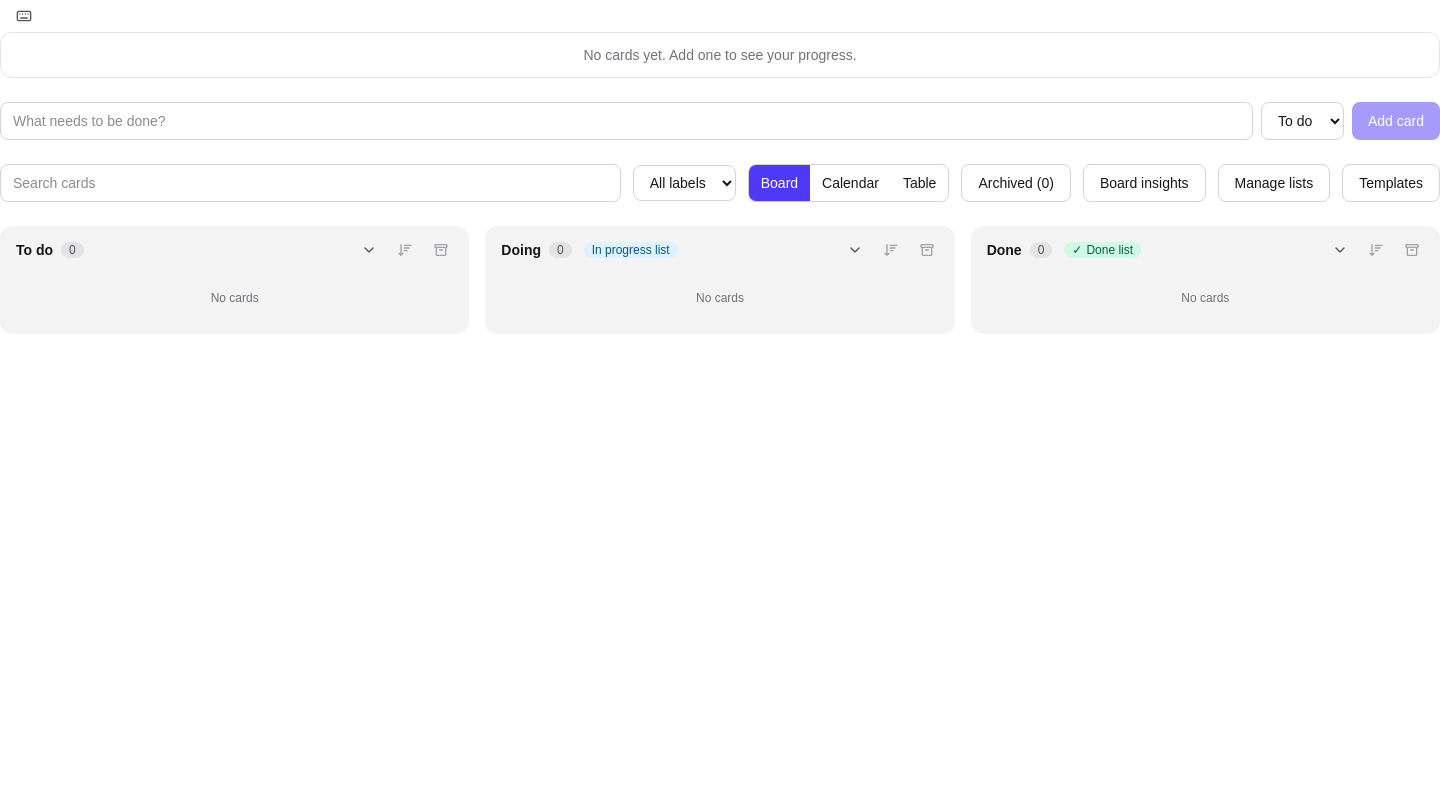
Test case: <KeyboardShortcuts /> › closes with the Close button
Click the button named "Keyboard shortcuts" at [24, 16], box left=0, top=0, right=48, bottom=32
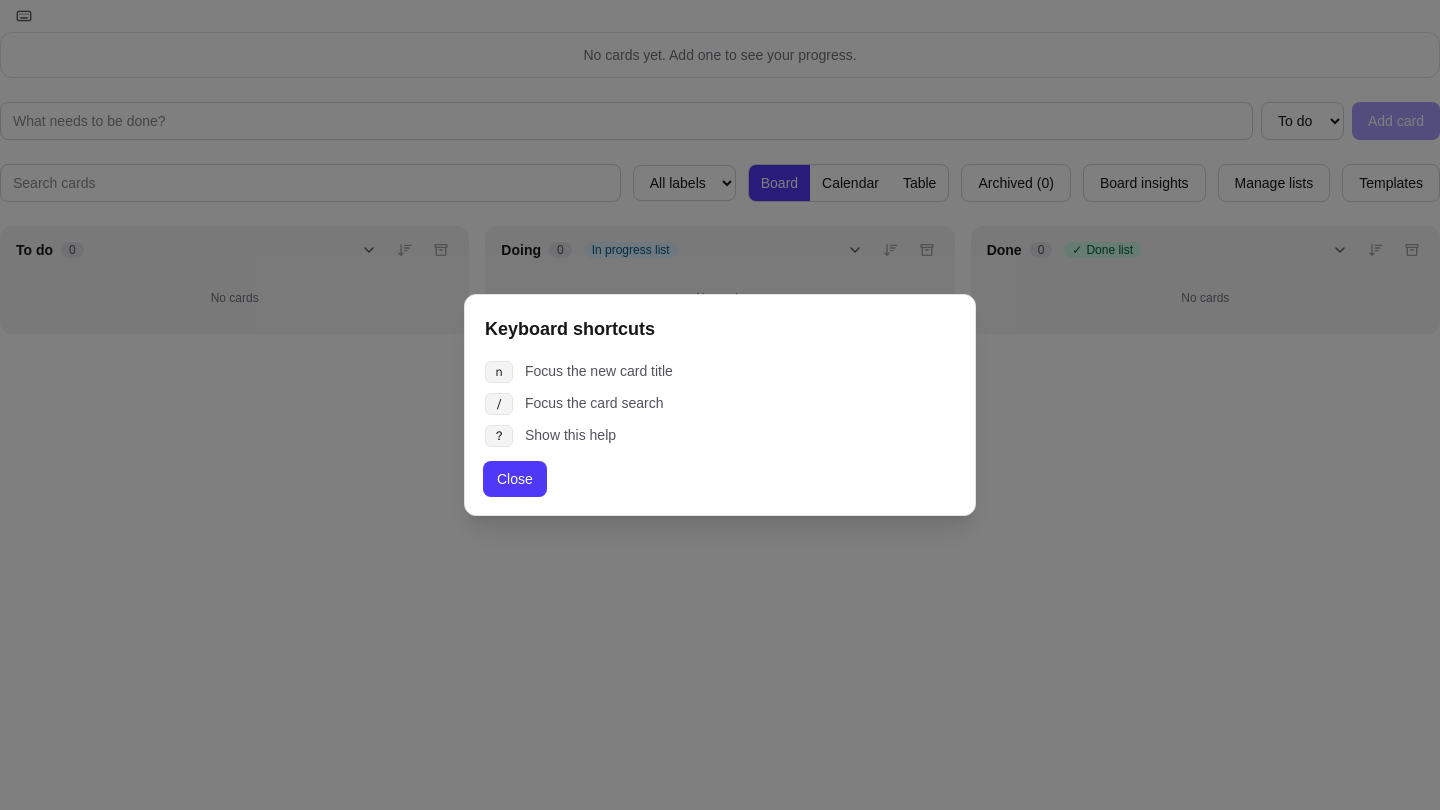
Click the button "Close" at [515, 479], box left=485, top=463, right=545, bottom=495
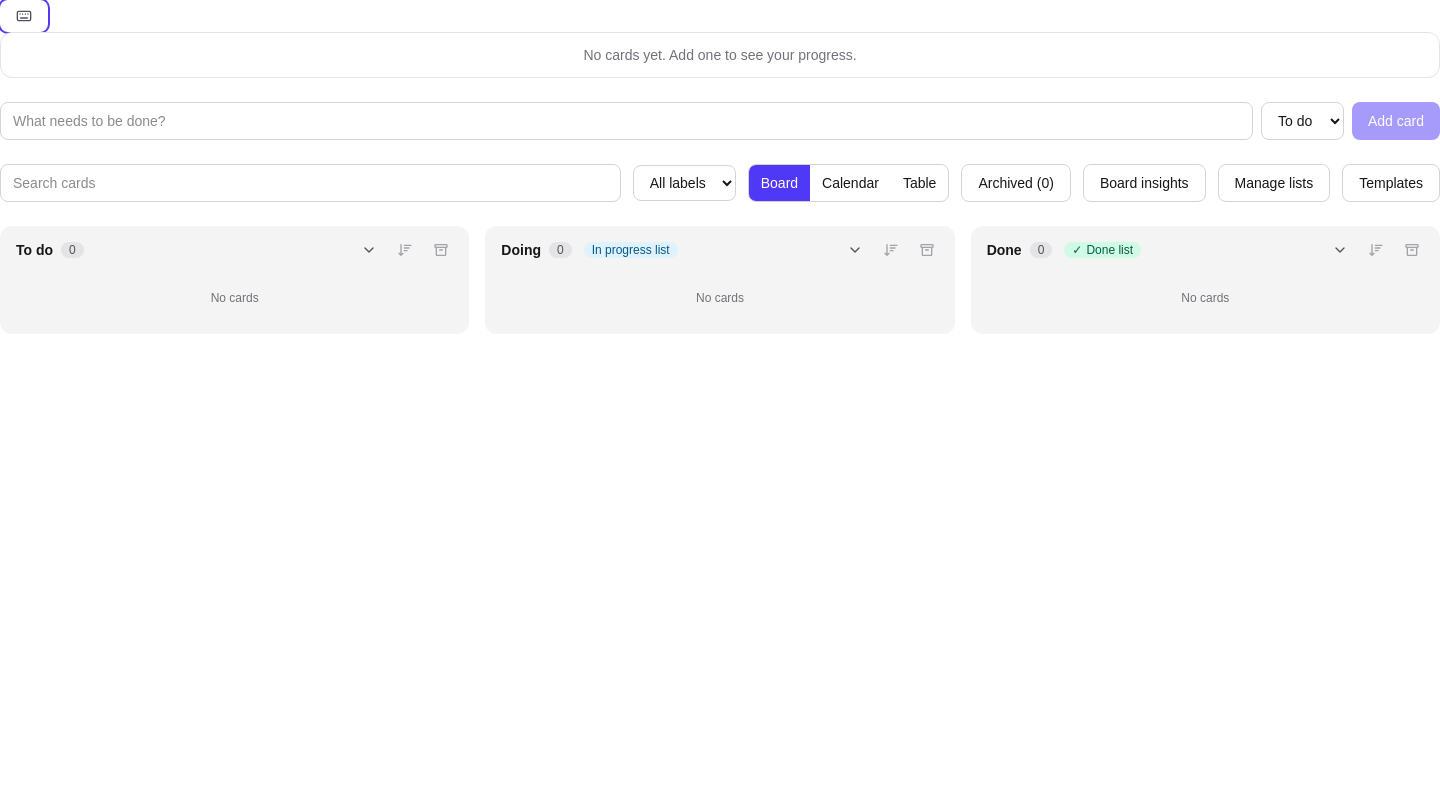
Now the dialog is gone
